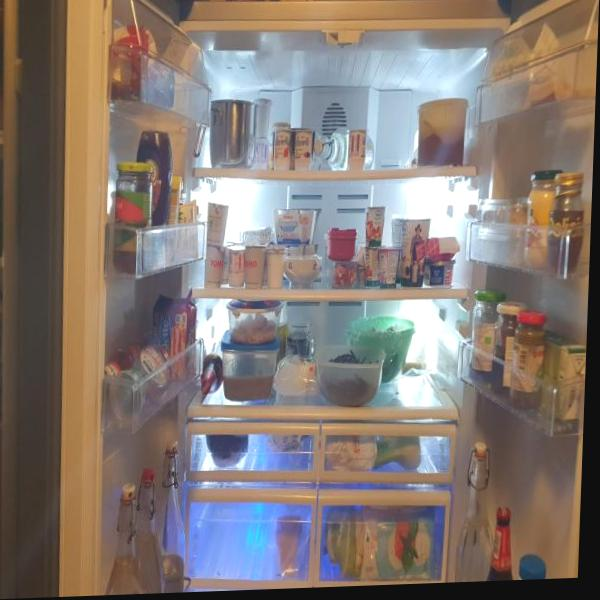bacon: (329, 264, 358, 292)
butter: (490, 45, 554, 83)
green beans: (320, 341, 381, 412)
milk: (513, 547, 547, 580)
yoghurt: (391, 212, 429, 288), (271, 204, 323, 251), (361, 242, 402, 291), (272, 127, 315, 172), (276, 354, 317, 395), (205, 196, 231, 250), (203, 242, 230, 289), (243, 244, 266, 290), (225, 243, 247, 291), (363, 204, 386, 248), (346, 127, 367, 173), (265, 244, 285, 292), (253, 96, 272, 140), (251, 135, 271, 172)
